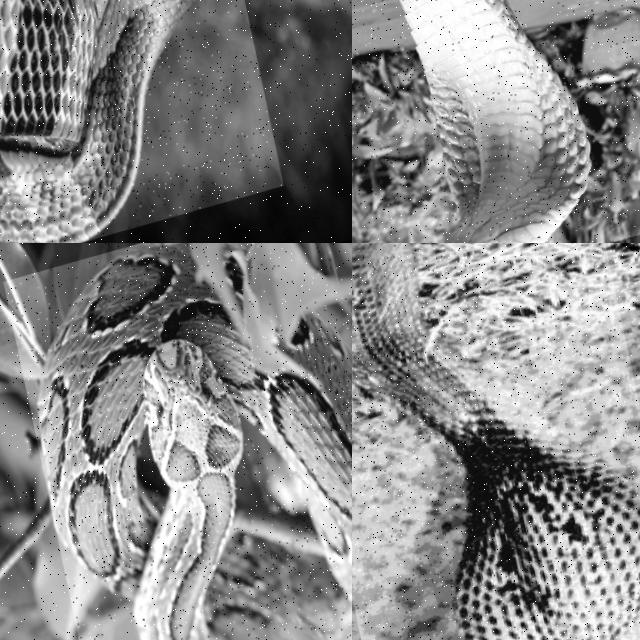Bungarus fasciatus: (0, 0, 192, 242)
Daboia siamensis: (38, 243, 351, 639)
Naja kaouthia: (401, 0, 590, 242)
Naja siamensis: (352, 243, 639, 639)
